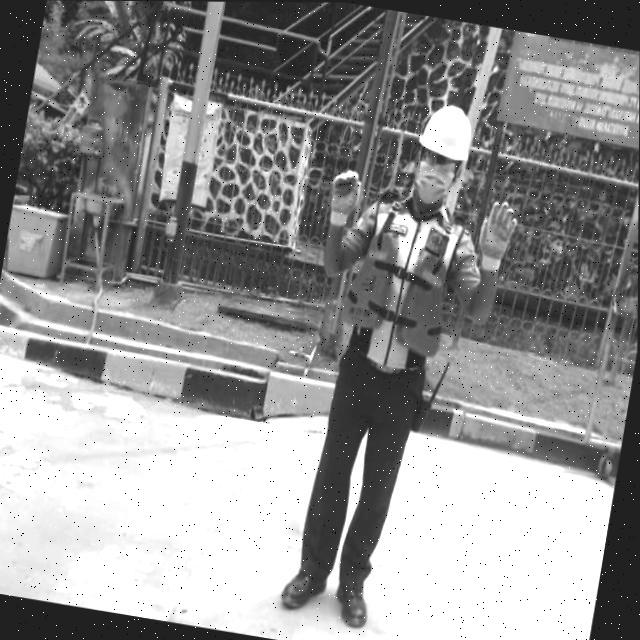goggles_on: (411, 142, 470, 174)
